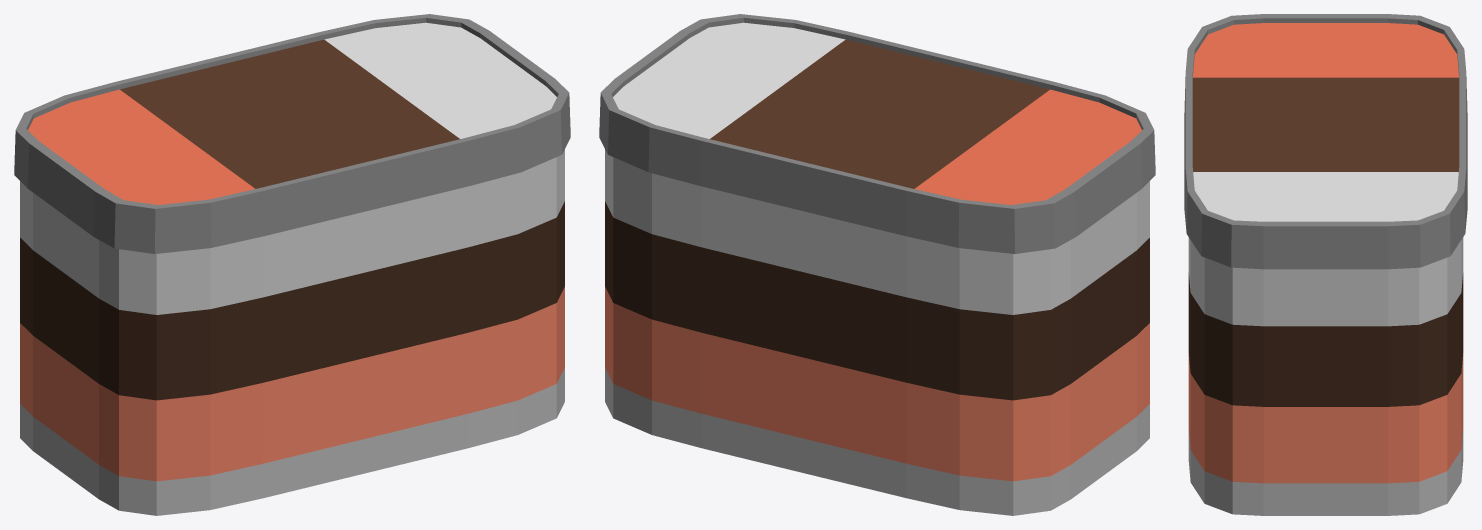
The model's file is Neopolitan Ice Cream Container.fbx.
3 renders of one model, left to right at view 1: azimuth 30°, elevation 25°; view 2: azimuth 150°, elevation 25°; view 3: azimuth 270°, elevation 25°, orthographic. The views are drawn at different scales.
Visible parts, largest first — view 1: Neopolitan Ice Cream Container; view 2: Neopolitan Ice Cream Container; view 3: Neopolitan Ice Cream Container.
Part boxes in pixels (left/top/right/bottom): Neopolitan Ice Cream Container: left=14, top=14, right=570, bottom=515; Neopolitan Ice Cream Container: left=599, top=14, right=1155, bottom=515; Neopolitan Ice Cream Container: left=1184, top=14, right=1467, bottom=515.
Size of the model in its own units: 42.76 by 27.21 by 23.95.
Materials: 1 (1 with a texture image).
